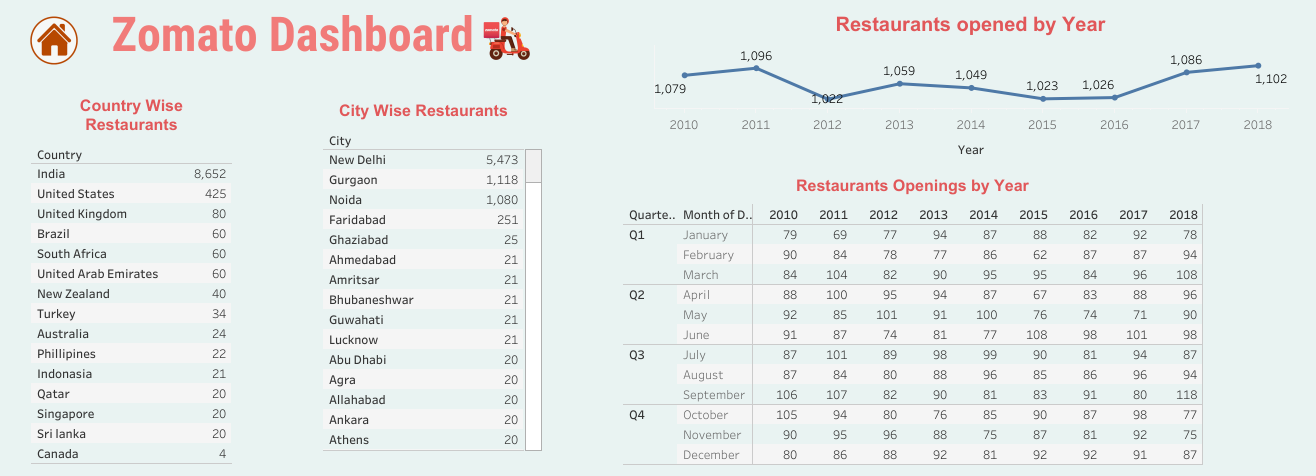

Layout of this report page (visuals, bound fields, positions):
{"tool":"tableau","page":{"name":"Page-2","canvas":[1000,1000],"units":"permille","ordinal":1},"visuals":[{"type":"worksheet","title":"Restaurants opened by Year","mark":"Automatic","rows":["RestaurantID"],"cols":["Date (Main.csv)"],"box":[496.9,12.6,481.2,333.3]},{"type":"text","box":[83.1,18.9,324.6,106.9]},{"type":"image","param":"Image/z1-1030x515.png","box":[412.1,25.2,58.6,104.8]},{"type":"dashboard-object","box":[1.8,31.4,63.9,111.1]},{"type":"worksheet","title":"City Wise Restaurants","mark":"Automatic","rows":["City"],"box":[245,199.2,196,786.2]},{"type":"worksheet","title":"Restaurants Openings","mark":"Automatic","rows":["DateKey","DateKey"],"cols":["DateKey"],"box":[473.3,356.4,515.3,639.4]}]}

Visuals, with their boxes on the dashboard's canvas, which has no fixed pixel size, in thousandths of its width and height (x1, y1, x2, y2). These are canvas units, not pixel positions in the 1316x476 screenshot, which may show the page scaled, cropped or inside an application window:
"Restaurants opened by Year" worksheet: x1=497 y1=13 x2=978 y2=346
text: x1=83 y1=19 x2=408 y2=126
image: x1=412 y1=25 x2=471 y2=130
dashboard-object: x1=2 y1=31 x2=66 y2=142
"City Wise Restaurants" worksheet: x1=245 y1=199 x2=441 y2=985
"Restaurants Openings" worksheet: x1=473 y1=356 x2=989 y2=996
